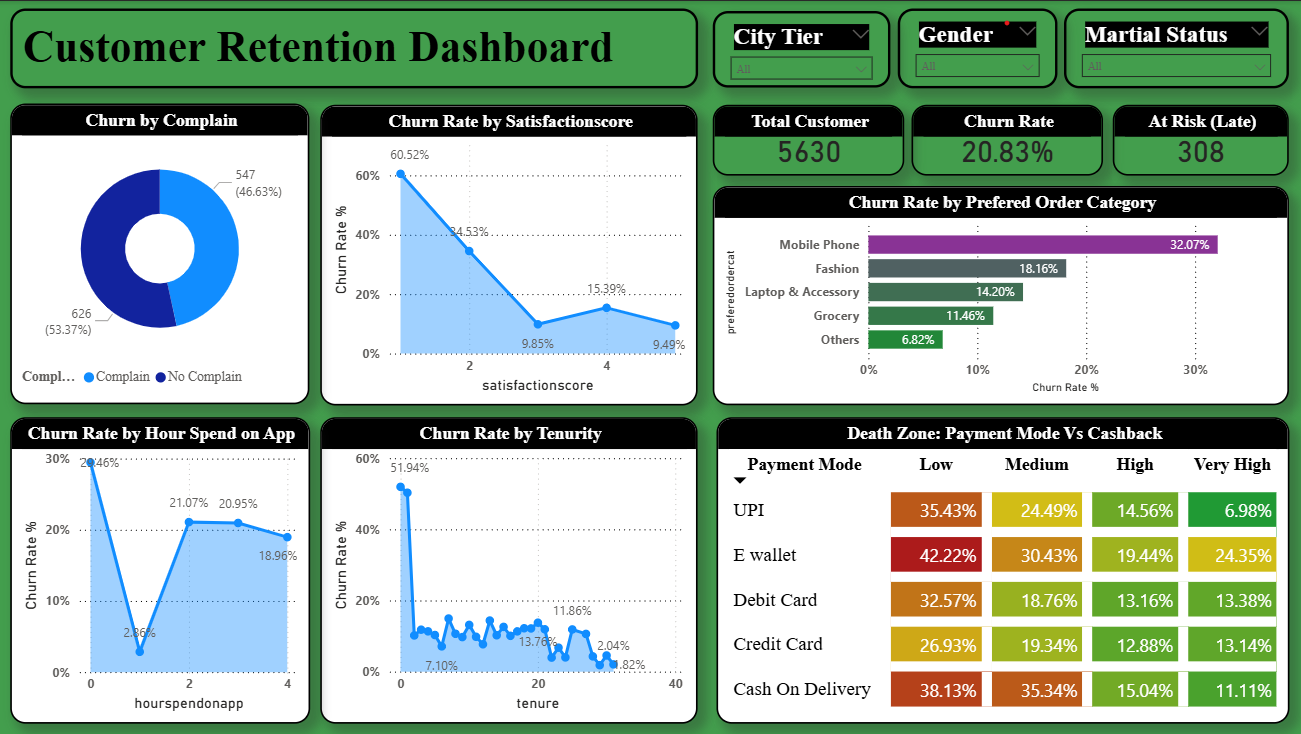

What the dashboard file says about the page in this screenshot:
{"tool":"powerbi","page":{"name":"Page 1","canvas":[1280,720],"ordinal":0},"visuals":[{"type":"textbox","box":[11,6.9,675.1,78.2],"z":0},{"type":"slicer","fields":{"Values":["Clean Churn Data.citytier"]},"box":[701.2,9.6,174.3,75.5],"z":0},{"type":"slicer","fields":{"Values":["diabetes new.Age (bins)"]},"box":[1291.9,19.8,314.9,106.6],"z":0,"group":"g1"},{"type":"slicer","fields":{"Values":["diabetes new.BMI Category"]},"box":[1626.6,19.8,314.9,106.6],"z":1000,"group":"g1"},{"type":"card","title":"Total Customer","fields":{"Values":["Clean Churn Data.Total Customers"]},"box":[701.2,101.9,188,70],"z":1000},{"type":"slicer","fields":{"Values":["Clean Churn Data.gender"]},"box":[882.3,6.9,156.4,78.2],"z":2000},{"type":"card","title":"Churn Rate","fields":{"Values":["Clean Churn Data.Churn Rate %"]},"box":[896.1,101.5,188,70],"z":3000},{"type":"lineChart","title":"Churn Rate by Satisfactionscore","fields":{"Category":["Clean Churn Data.satisfactionscore"],"Y":["Clean Churn Data.Churn Rate %"]},"box":[315.6,101.5,370.5,295],"z":4000},{"type":"lineChart","title":"Churn Rate by Tenurity","fields":{"Category":["Clean Churn Data.tenure"],"Y":["Clean Churn Data.Churn Rate %"]},"box":[315.6,408.9,370.5,300.5],"z":5000},{"type":"card","title":"At Risk (Late)","fields":{"Values":["Clean Churn Data.At Risk (Late)"]},"box":[1093.7,101.9,172.9,70],"z":6000},{"type":"clusteredBarChart","title":"Churn Rate  by Prefered Order Category","fields":{"Category":["Clean Churn Data.preferedordercat"],"Y":["Clean Churn Data.Churn Rate %"]},"box":[701.2,181.1,565.4,215.4],"z":7000},{"type":"pivotTable","title":"Death Zone: Payment Mode Vs Cashback","fields":{"Values":["Clean Churn Data.Churn Rate %"],"Rows":["Clean Churn Data.preferredpaymentmode"],"Columns":["Clean Churn Data.Cashback Level"]},"box":[703.9,408.9,562.6,300.5],"z":8000},{"type":"slicer","fields":{"Values":["Clean Churn Data.maritalstatus"]},"box":[1045.6,6.9,220.9,78.2],"z":9000},{"type":"donutChart","title":"Churn by Complain","fields":{"Y":["Sum(Clean Churn Data.churn)"],"Series":["Clean Churn Data.Complain (groups)"]},"box":[11,100.2,293.7,295],"z":10000},{"type":"group","id":"g1","title":"Group 1","box":[1291.9,9.9,822.3,128.9],"z":10001},{"type":"lineChart","title":"Churn Rate by Hour Spend on App","fields":{"Y":["Clean Churn Data.Churn Rate %"],"Category":["Clean Churn Data.hourspendonapp"]},"box":[11,409,294,301],"z":10002},{"type":"actionButton","box":[1968.3,9.9,145.9,128.9],"z":11002,"group":"g1"}]}

Visuals, with their boxes in screenshot pixels (x1, y1, x2, y2), scaled from the page's 1280x720 canvas onto the 1301x734 screenshot:
textbox: (x1=11, y1=7, x2=697, y2=87)
slicer - Clean Churn Data.citytier: (x1=713, y1=10, x2=890, y2=87)
"Total Customer" card: (x1=713, y1=104, x2=904, y2=175)
slicer - Clean Churn Data.gender: (x1=897, y1=7, x2=1056, y2=87)
"Churn Rate" card: (x1=911, y1=103, x2=1102, y2=175)
"Churn Rate by Satisfactionscore" lineChart: (x1=321, y1=103, x2=697, y2=404)
"Churn Rate by Tenurity" lineChart: (x1=321, y1=417, x2=697, y2=723)
"At Risk (Late)" card: (x1=1112, y1=104, x2=1287, y2=175)
"Churn Rate  by Prefered Order Category" clusteredBarChart: (x1=713, y1=185, x2=1287, y2=404)
"Death Zone: Payment Mode Vs Cashback" pivotTable: (x1=715, y1=417, x2=1287, y2=723)
slicer - Clean Churn Data.maritalstatus: (x1=1063, y1=7, x2=1287, y2=87)
"Churn by Complain" donutChart: (x1=11, y1=102, x2=310, y2=403)
"Churn Rate by Hour Spend on App" lineChart: (x1=11, y1=417, x2=310, y2=724)
